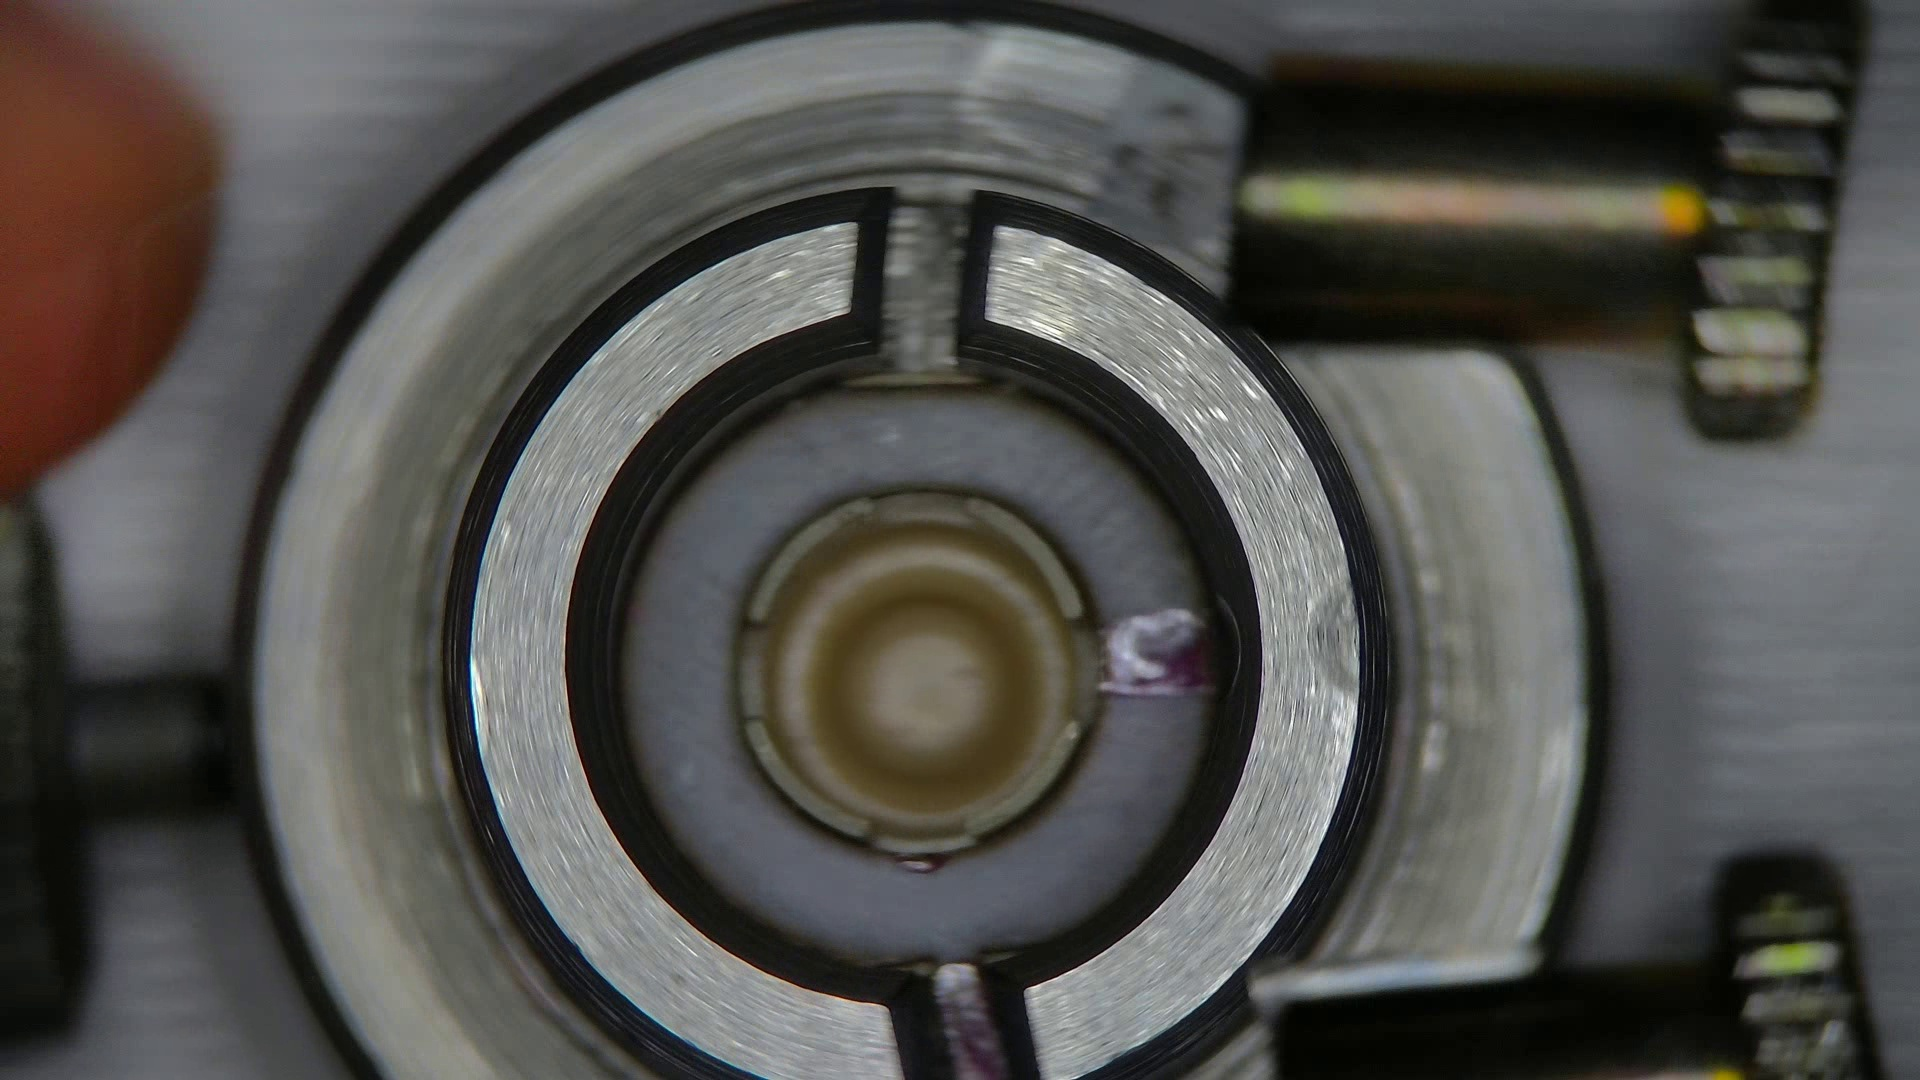YellowOring: (624, 384, 1208, 964)
